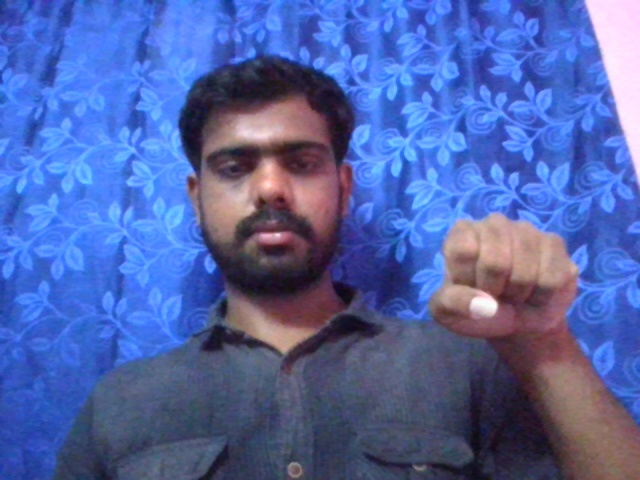Yes: (423, 206, 582, 347)
